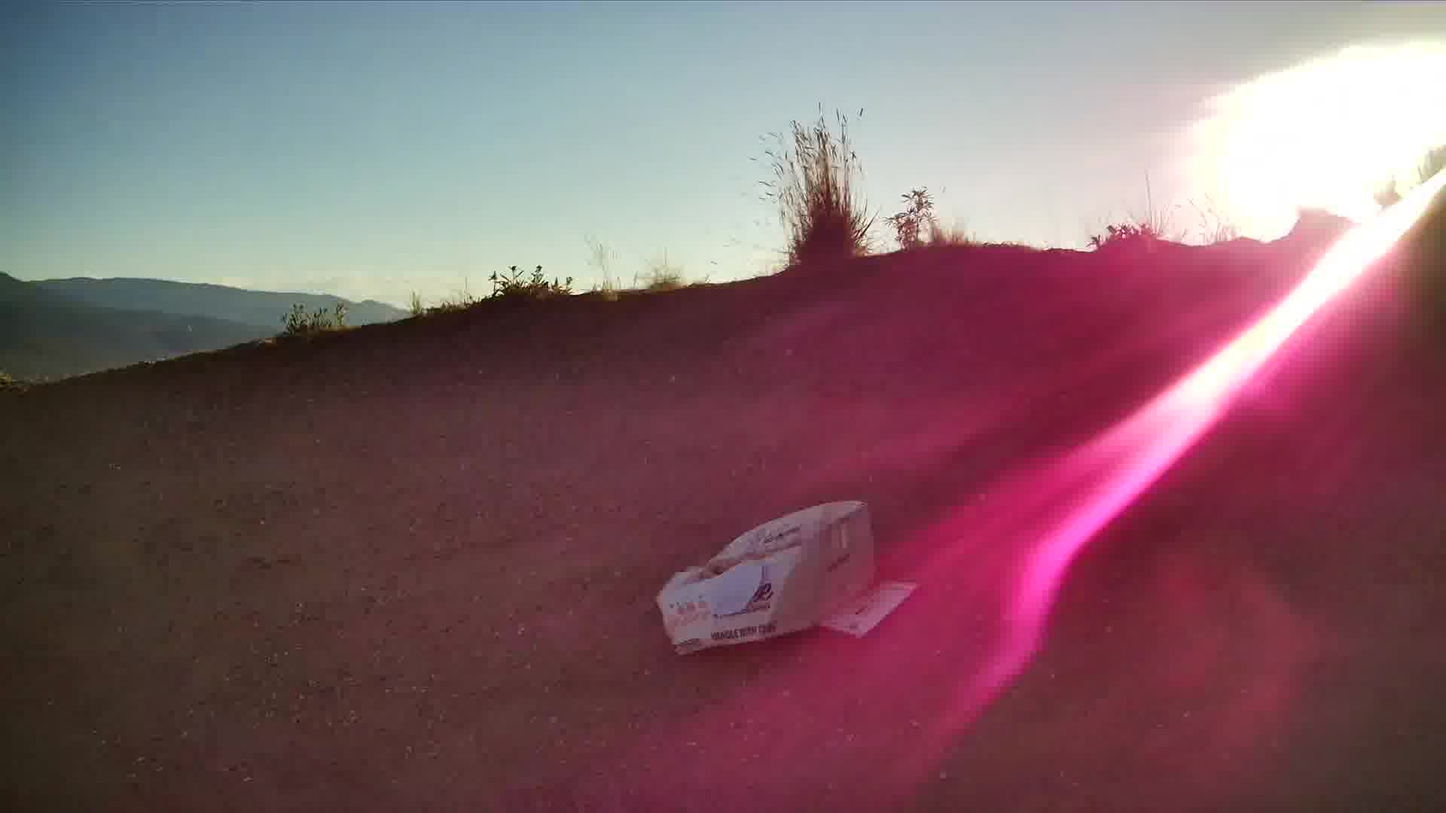Target: (709, 553, 758, 617)
